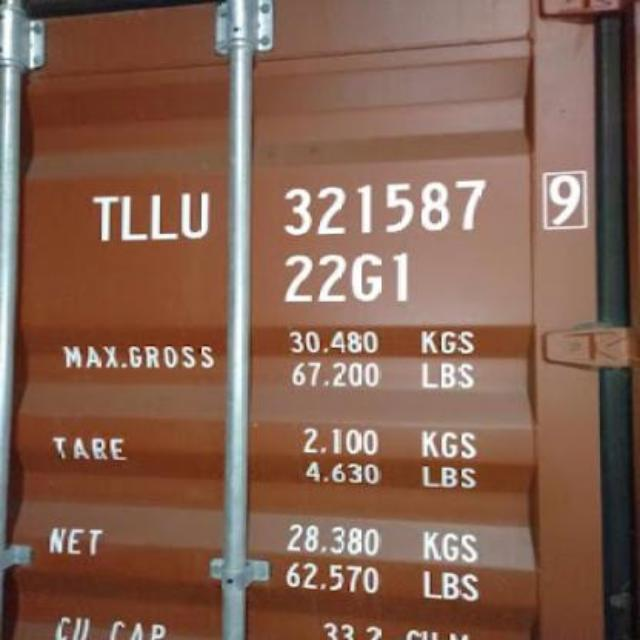1: (352, 183, 376, 239)
2: (314, 183, 350, 239)
3: (282, 184, 312, 238)
5: (382, 177, 416, 235)
7: (452, 179, 490, 235)
8: (418, 180, 452, 238)
9: (544, 171, 588, 231)
L: (147, 193, 180, 245), (118, 191, 148, 245)
T: (88, 189, 118, 243)
U: (180, 188, 212, 244)
